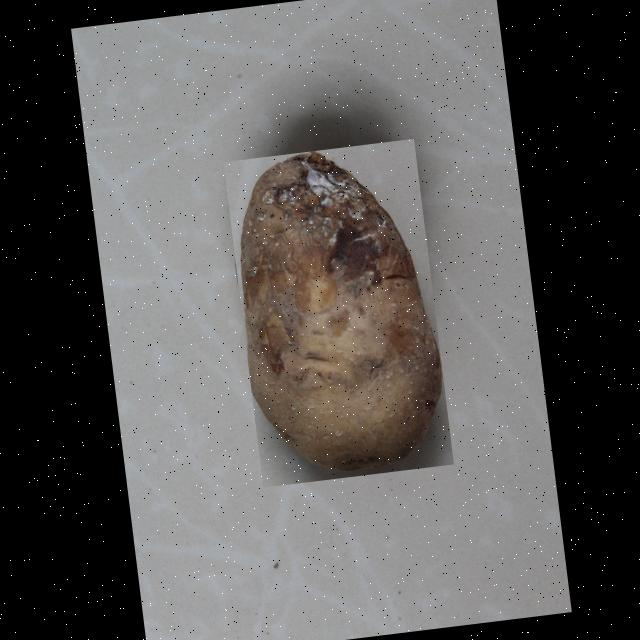Diseased-fungal potato: (222, 138, 453, 488)
